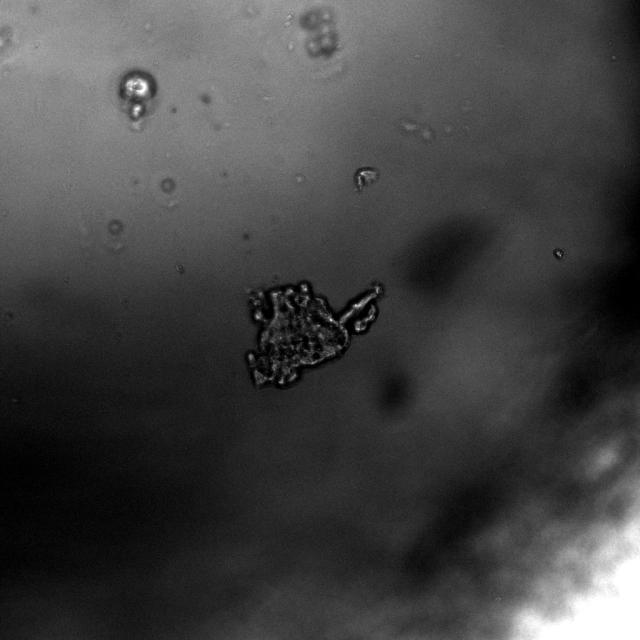organoid: (246, 281, 384, 388), (119, 68, 156, 122)
